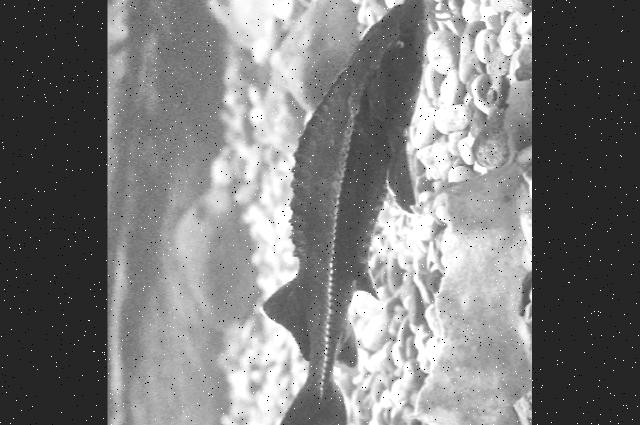Sirip Anal: (332, 318, 371, 371)
Sirip Dada: (377, 141, 428, 224)
Sirip Ekor: (236, 379, 373, 425)
Sirip Perut: (353, 256, 390, 309)
Sirip Punggung: (256, 270, 314, 368)
